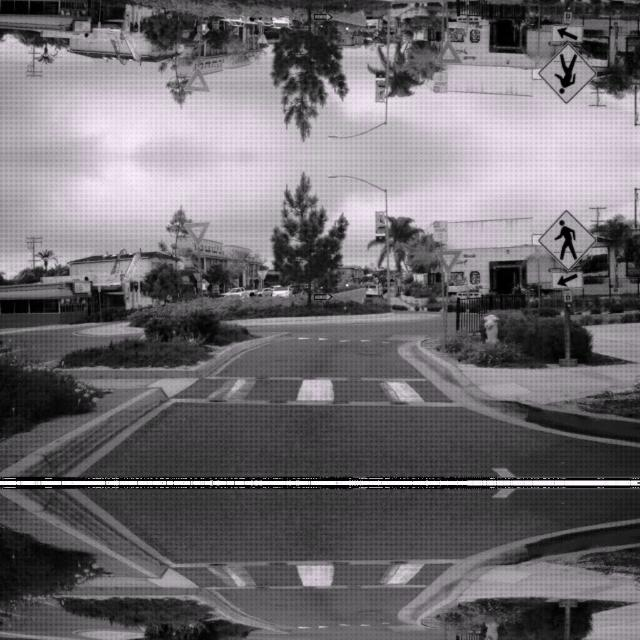pedestrianCrossing: (536, 208, 596, 270), (536, 42, 596, 104)
yield: (434, 248, 462, 272), (182, 220, 210, 244), (434, 40, 462, 64), (182, 68, 210, 92)
